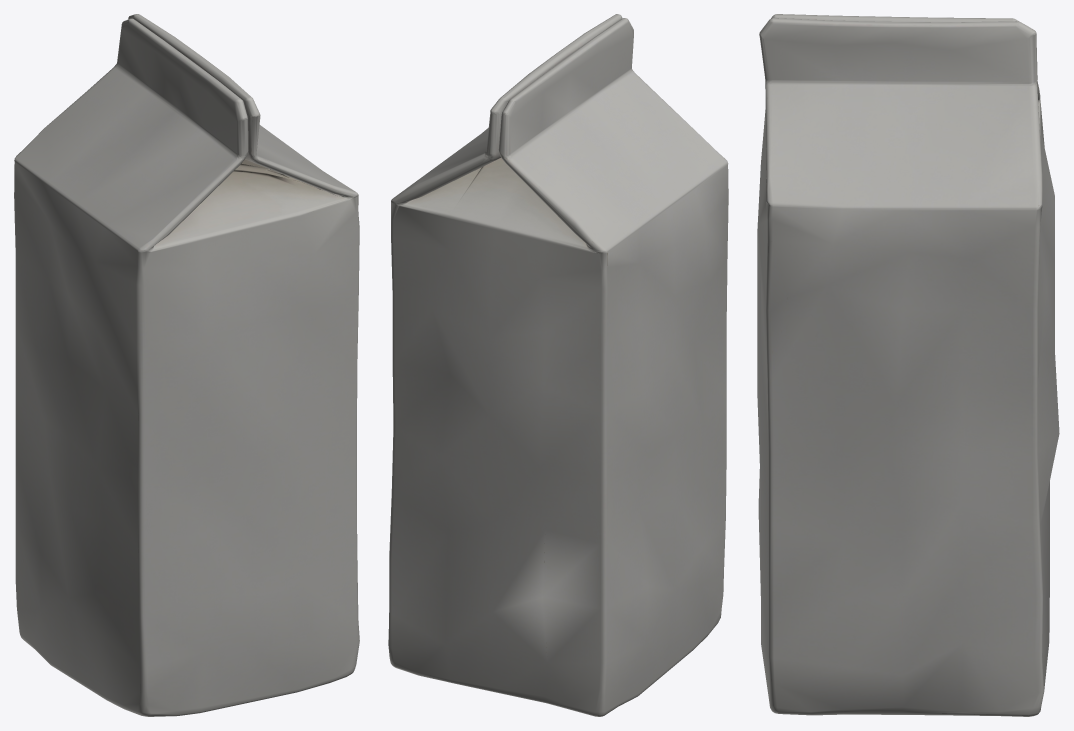
Rendered from carton.glb.
3 views of the same model, side by side, from view 1: azimuth 30°, elevation 25°; view 2: azimuth 150°, elevation 25°; view 3: azimuth 270°, elevation 25° (orthographic). The views are drawn at different scales.
Visible parts, largest first — view 1: tripo_node_5ec70231-bed2-4388-be54-1c978dfd520a; view 2: tripo_node_5ec70231-bed2-4388-be54-1c978dfd520a; view 3: tripo_node_5ec70231-bed2-4388-be54-1c978dfd520a.
Part boxes in pixels (x1,y1,x2,y2): tripo_node_5ec70231-bed2-4388-be54-1c978dfd520a: (14, 14, 359, 716); tripo_node_5ec70231-bed2-4388-be54-1c978dfd520a: (388, 14, 728, 716); tripo_node_5ec70231-bed2-4388-be54-1c978dfd520a: (757, 14, 1059, 716).
Bounding box in the file's own units: 0.4155 × 0.9995 × 0.4233.
1 material, 1 textured.
